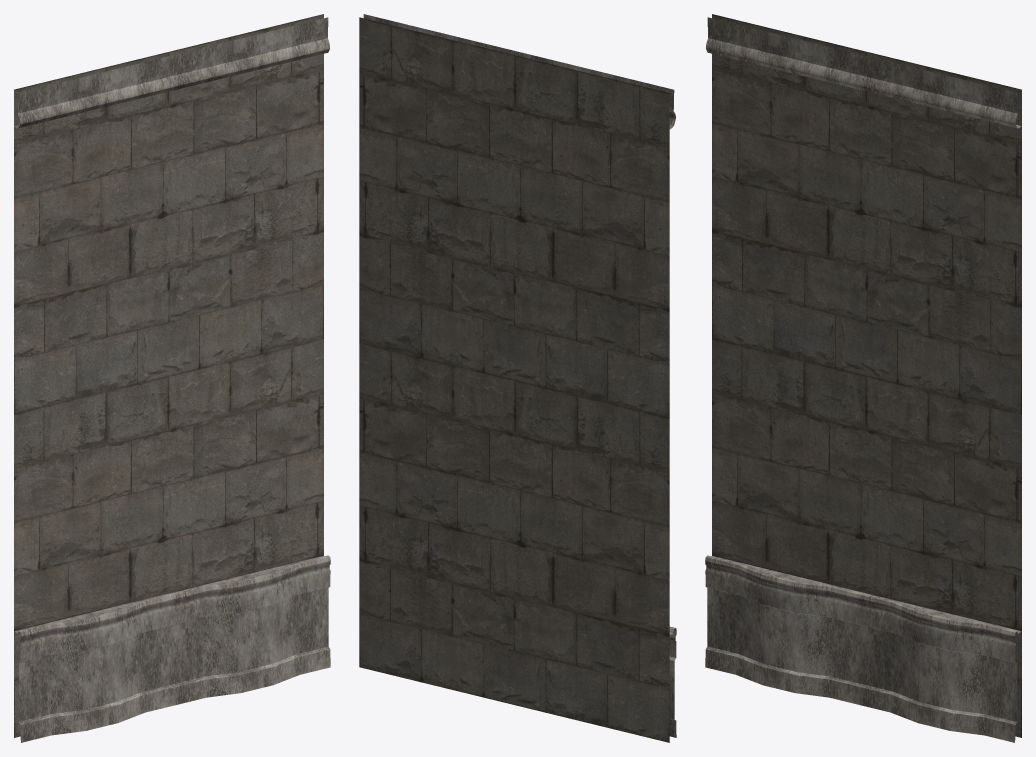
The model's file is SM_Wall_Stone_01.fbx.
The picture shows the model from 3 angles, left to right: view 1: azimuth 30°, elevation 25°; view 2: azimuth 150°, elevation 25°; view 3: azimuth 330°, elevation 25°; orthographic projection.
Visible parts, largest first — view 1: SM_Wall_Stone_01; view 2: SM_Wall_Stone_01; view 3: SM_Wall_Stone_01.
Part boxes in pixels (x1,y1,x2,y2): SM_Wall_Stone_01: (14,14,330,742); SM_Wall_Stone_01: (359,14,676,742); SM_Wall_Stone_01: (705,14,1021,742).
Bounding box in the file's own units: 200 × 400 × 12.2.
